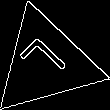L_SE: (16, 34, 75, 92)
